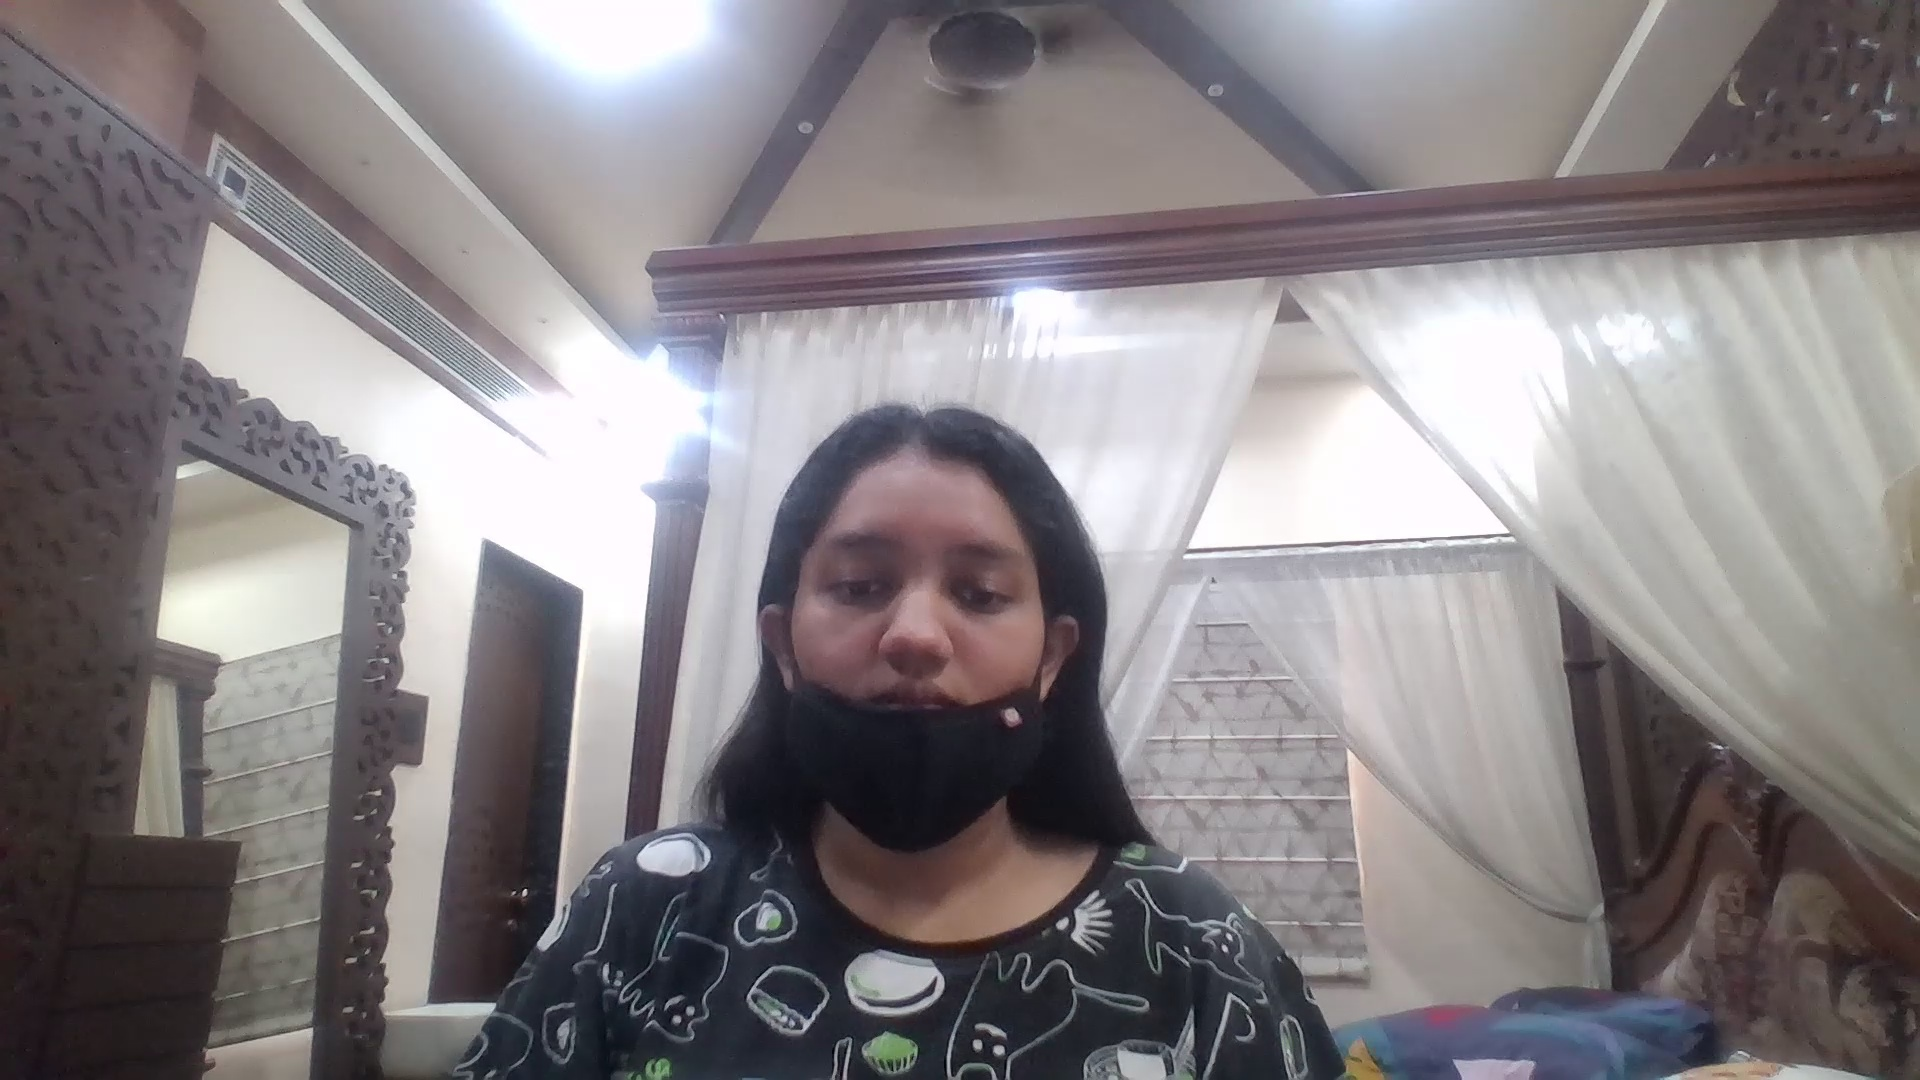No Mask: (764, 619, 1043, 856)
